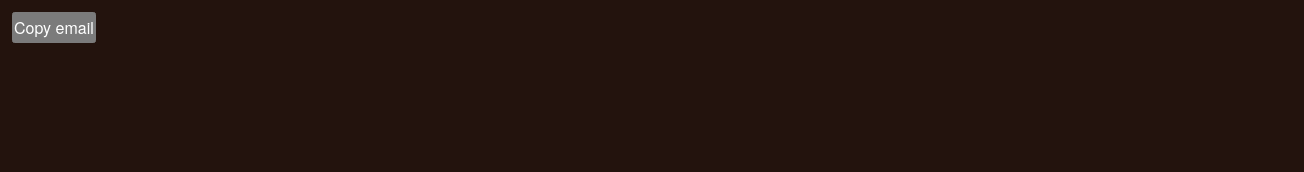
Test: CopyEmail › offers a manual copy fallback when clipboard access is denied
This screenshot has width=1304, height=172.
Step 1. Click the button "Copy email" → [54, 28], box x1=12 y1=12 x2=96 y2=43
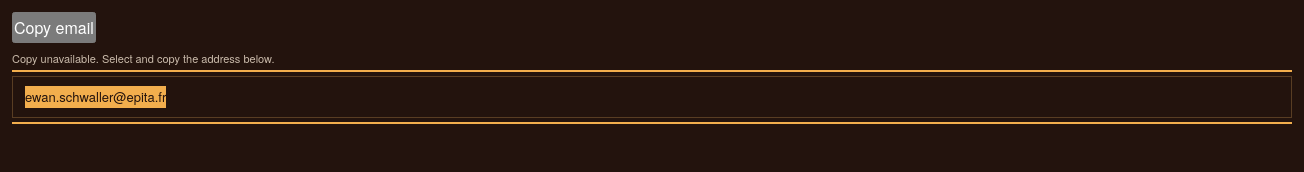
Check: the field named "Email address to copy" holds "ewan.schwaller@epita.fr", box x1=12 y1=76 x2=1292 y2=118
Check: the message shows "Copy unavailable", box x1=12 y1=50 x2=274 y2=66
